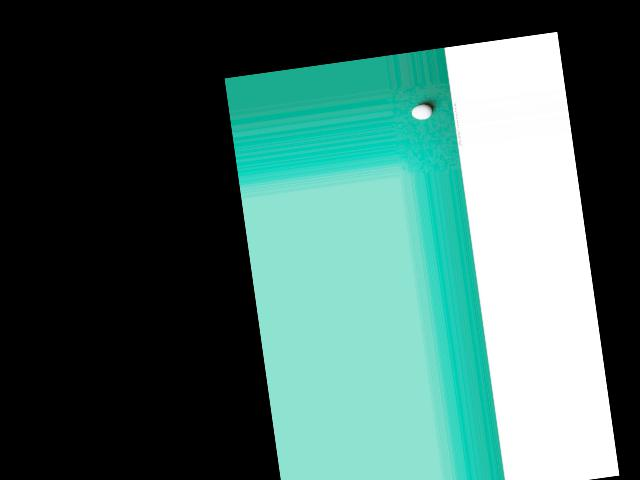egg: (411, 104, 433, 121)
